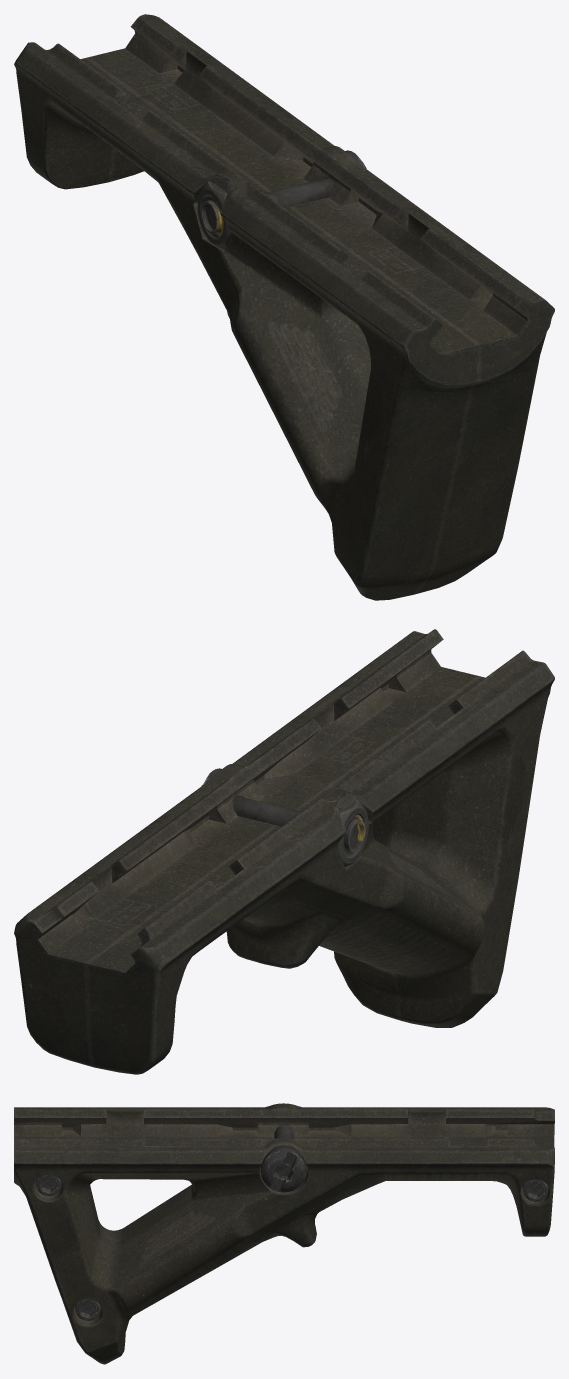
The model's file is magpul_afg-2_grip_game-ready_asset_free.glb.
The picture shows the model from 3 angles, top to bottom: view 1: azimuth 30°, elevation 25°; view 2: azimuth 150°, elevation 25°; view 3: azimuth 270°, elevation 25°; orthographic projection. The views are drawn at different scales.
Parts seen in each view (by area): view 1: Magpul AFG-2 Grip; view 2: Magpul AFG-2 Grip; view 3: Magpul AFG-2 Grip.
Boxes of the visible parts, x1,y1,x2,y2 form: Magpul AFG-2 Grip: (14,14,554,600); Magpul AFG-2 Grip: (14,629,554,1074); Magpul AFG-2 Grip: (14,1103,554,1364).
Size of the model in its own units: 0.0347 by 0.066 by 0.1398.
1 material, 1 textured.
